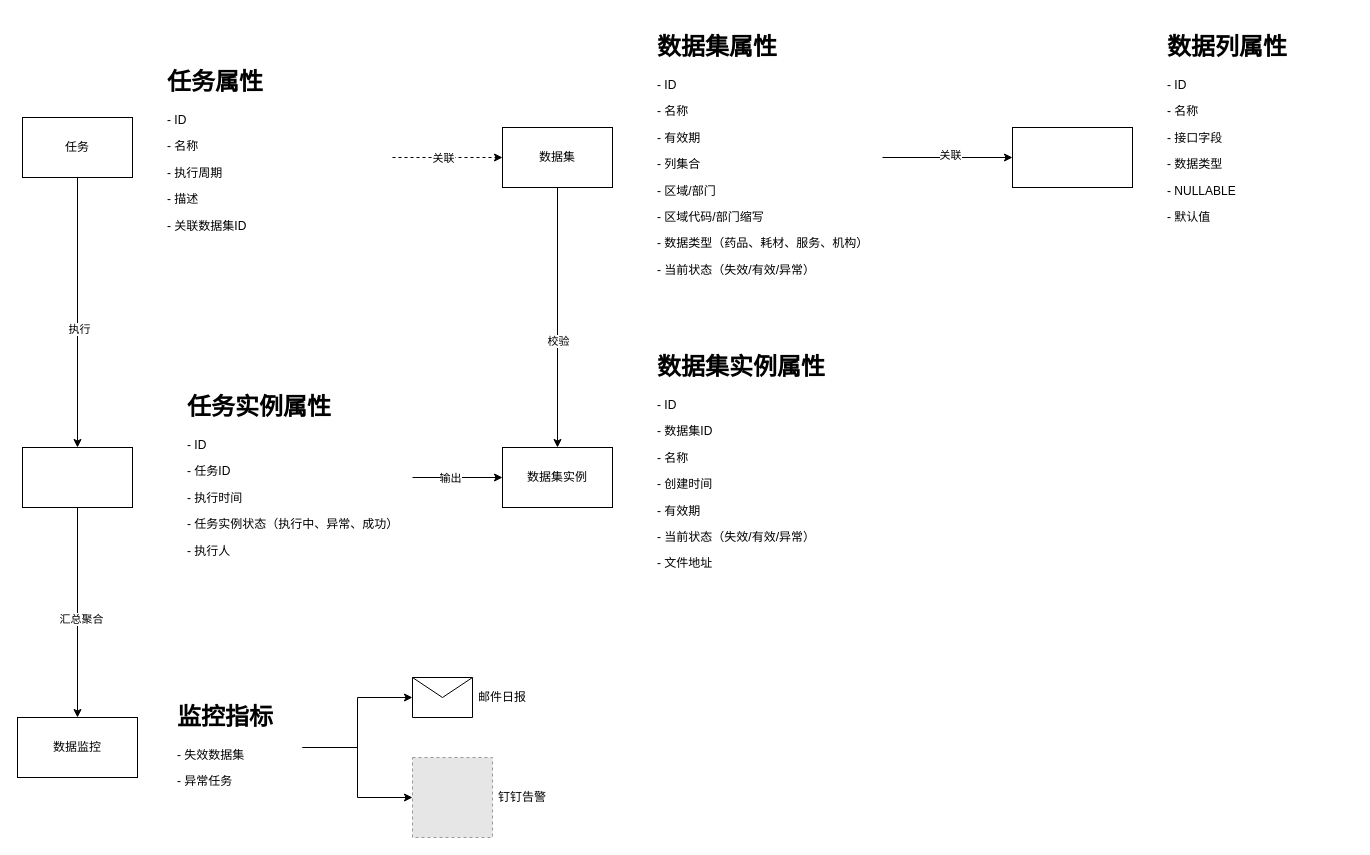
This 1370x855 diagram has some shape labels left out. Grey dashed boxes stand in for pictures. Here are the shapes that lost their labels. From the top down, the box of each, then its label:
(1012, 126, 1132, 188): 数据列
(22, 446, 132, 508): 任务实例
